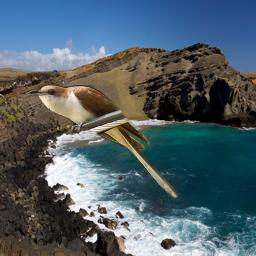Cuckoo: (27, 83, 181, 201)
